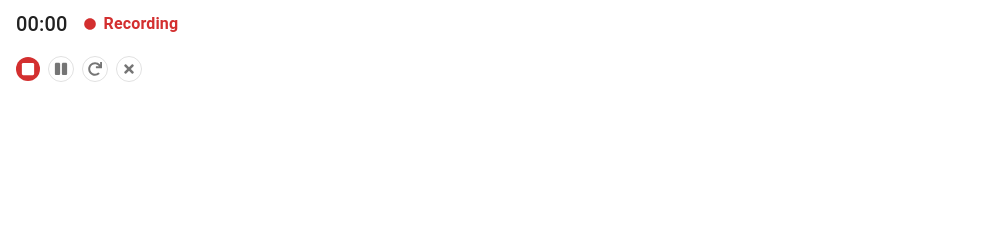
Test case: RecordingControlsModal › confirmation dialogs › shows confirmation dialog when cancel button is clicked
Step 1. Click the button named "cancel" → (129,69), box [116,56,142,82]
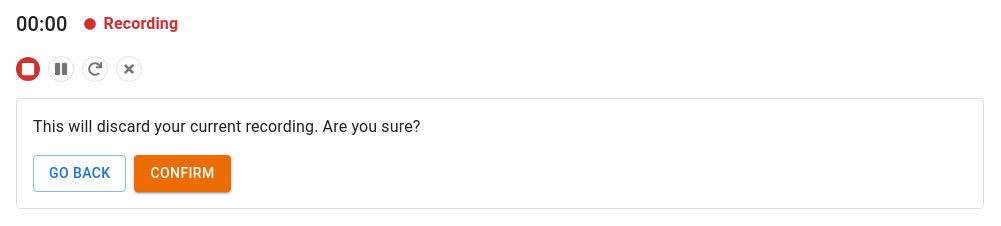
Result: the element with test id "confirmation-dialog" is shown at [16,98,984,208]
Result: the text "This will discard your current recording. Are you sure?" is shown at [33,117,420,136]
